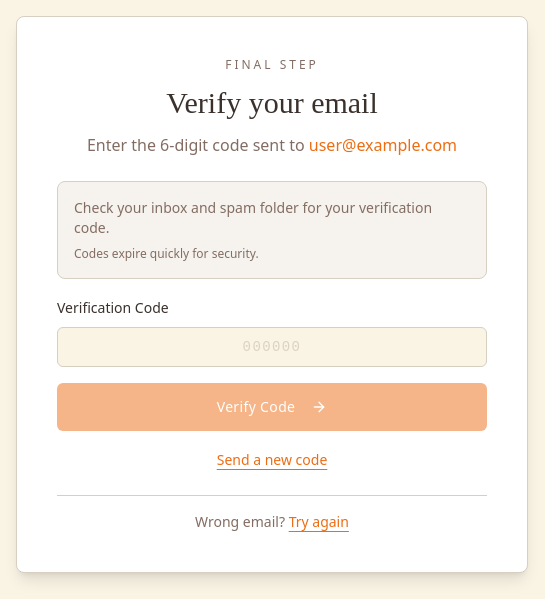
Test: CheckEmailPage › disables the resend button and shows countdown after sending
Click the button "Send a new code": (272, 460) [217,450,327,470]
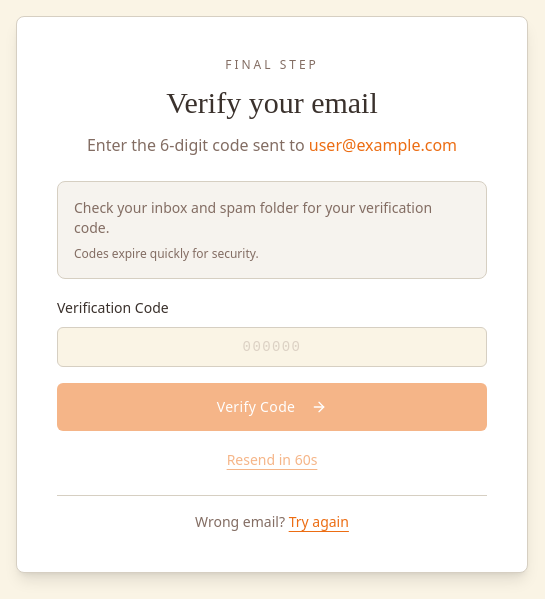
Expected: the button "Resend in 60s" is disabled, [227,450,317,470]
